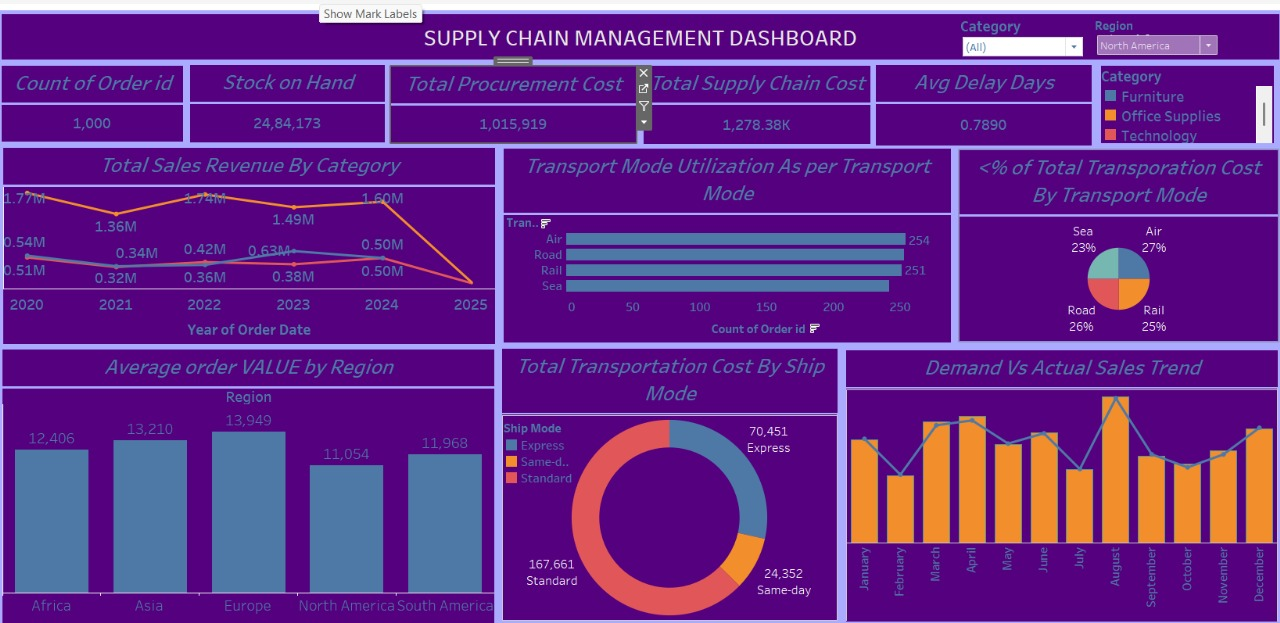

Layout of this report page (visuals, bound fields, positions):
{"tool":"tableau","page":{"name":"Dashboard 1","canvas":[1000,1000],"units":"permille","ordinal":0},"visuals":[{"type":"text","box":[6.6,16.2,986.1,72.4]},{"type":"filter","title":"Total Sales Revenue","param":"[federated.0pkavyy189ybhn1fg1ncr15gh1c7].[none:Category:nk]","box":[746.5,18.7,96.6,67.4]},{"type":"filter","title":"Demand vs actual Sale Trend","param":"[federated.0pkavyy189ybhn1fg1ncr15gh1c7].[none:Region:nk]","box":[850.3,21.2,96.6,62.4]},{"type":"worksheet","title":"Stock on Hand","mark":"Automatic","box":[152.1,97.4,150.3,123.6]},{"type":"worksheet","title":"Avg Delay Days","mark":"Automatic","box":[681.4,97.4,166.6,128.6]},{"type":"worksheet","title":"Count of Order id","mark":"Automatic","box":[6.6,98.6,140,121.1]},{"type":"worksheet","title":"Total Supply Chain Cost","mark":"Automatic","box":[502.1,98.6,175,124.8]},{"type":"legend","title":"Total Sales Revenue","param":"[federated.0pkavyy189ybhn1fg1ncr15gh1c7].[none:Category:nk]","box":[855.2,98.6,133.4,123.6]},{"type":"worksheet","title":"Total Procument Cost","mark":"Automatic","box":[307.2,99.9,188.9,121.1]},{"type":"worksheet","title":"Total Sales Revenue","mark":"Automatic","rows":["Calculation_376332059678781444"],"cols":["Order_Date"],"box":[7.9,229.7,379.6,313.4]},{"type":"worksheet","title":"Transport Mode Utilized","mark":"Automatic","rows":["Transport_Mode"],"cols":["Calculation_376332059675836416"],"box":[394.1,231,345.2,309.6]},{"type":"worksheet","title":"% of Transporation Cost","mark":"Pie","box":[745.9,233.5,245.6,304.6]},{"type":"worksheet","title":"Transportation Cost By Ship Mode","mark":"Pie","rows":["Calculation_376332059688198159","Calculation_376332059688198159"],"box":[392.9,550.6,258.9,434.5]},{"type":"worksheet","title":"Average order value","mark":"Automatic","rows":["Calculation_376332059680620549"],"cols":["Region"],"box":[7.2,551.8,379.6,438.2]},{"type":"worksheet","title":"Demand vs actual Sale Trend","mark":"Automatic","rows":["Forecast_Demand","Actual_Demand"],"cols":["Order_Date"],"box":[658.4,553.1,333.1,433.2]},{"type":"legend","title":"Transportation Cost By Ship Mode","param":"[federated.0pkavyy189ybhn1fg1ncr15gh1c7].[none:Ship_Mode:nk]","box":[394.1,664.2,56.7,106.1]}]}

Visuals, with their boxes on the dashboard's canvas, which has no fixed pixel size, in thousandths of its width and height (x1, y1, x2, y2). These are canvas units, not pixel positions in the 1280x623 screenshot, which may show the page scaled, cropped or inside an application window:
text: x1=7, y1=16, x2=993, y2=89
"Total Sales Revenue" filter: x1=746, y1=19, x2=843, y2=86
"Demand vs actual Sale Trend" filter: x1=850, y1=21, x2=947, y2=84
"Stock on Hand" worksheet: x1=152, y1=97, x2=302, y2=221
"Avg Delay Days" worksheet: x1=681, y1=97, x2=848, y2=226
"Count of Order id" worksheet: x1=7, y1=99, x2=147, y2=220
"Total Supply Chain Cost" worksheet: x1=502, y1=99, x2=677, y2=223
"Total Sales Revenue" legend: x1=855, y1=99, x2=989, y2=222
"Total Procument Cost" worksheet: x1=307, y1=100, x2=496, y2=221
"Total Sales Revenue" worksheet: x1=8, y1=230, x2=388, y2=543
"Transport Mode Utilized" worksheet: x1=394, y1=231, x2=739, y2=541
"% of Transporation Cost" worksheet (Pie marks): x1=746, y1=234, x2=992, y2=538
"Transportation Cost By Ship Mode" worksheet (Pie marks): x1=393, y1=551, x2=652, y2=985
"Average order value" worksheet: x1=7, y1=552, x2=387, y2=990
"Demand vs actual Sale Trend" worksheet: x1=658, y1=553, x2=992, y2=986
"Transportation Cost By Ship Mode" legend: x1=394, y1=664, x2=451, y2=770
